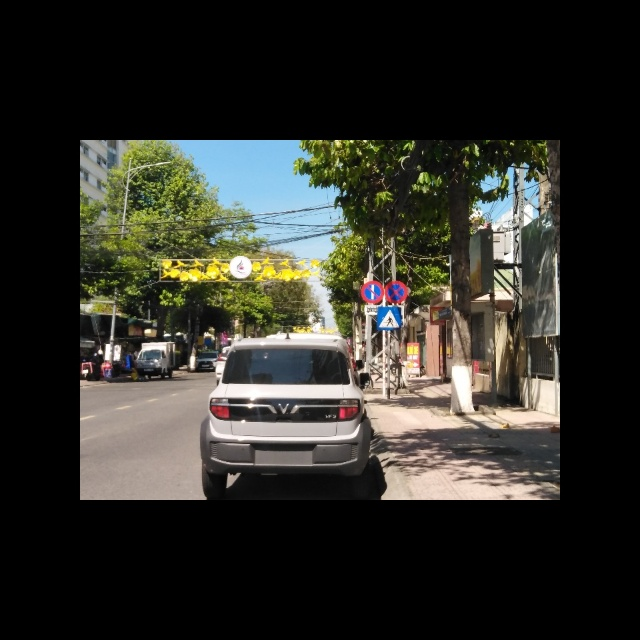Cấm dừng xe và đỗ xe: (386, 280, 409, 303)
Cấm đỗ xe ngày lẻ: (360, 281, 384, 304)
Đường dành cho người đi bộ: (377, 306, 402, 330)
